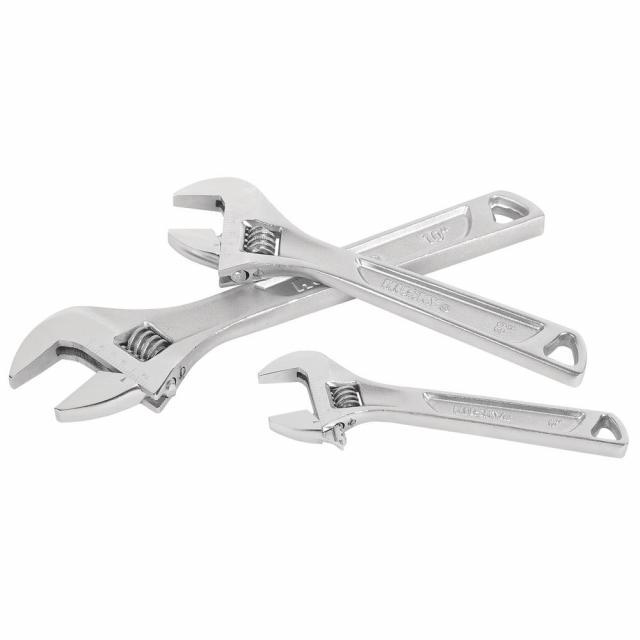wrench: (6, 188, 548, 428), (167, 174, 590, 388), (253, 346, 632, 466)
